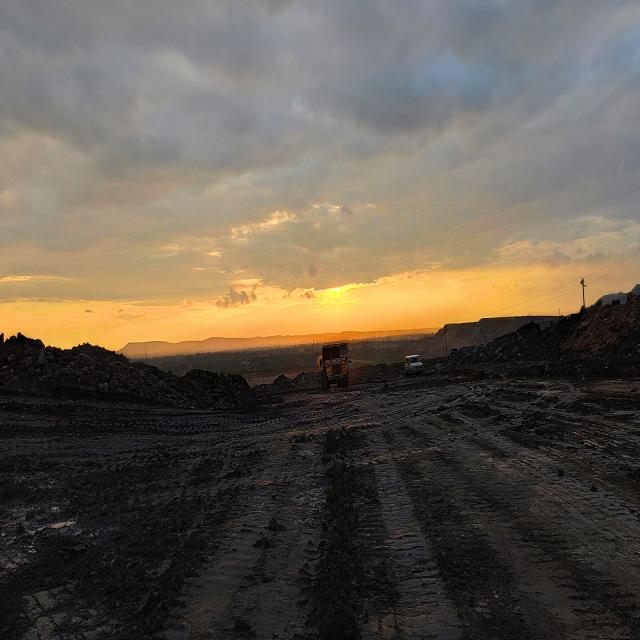dump_truck: (318, 342, 349, 391)
light_vehicle: (405, 356, 424, 378)
